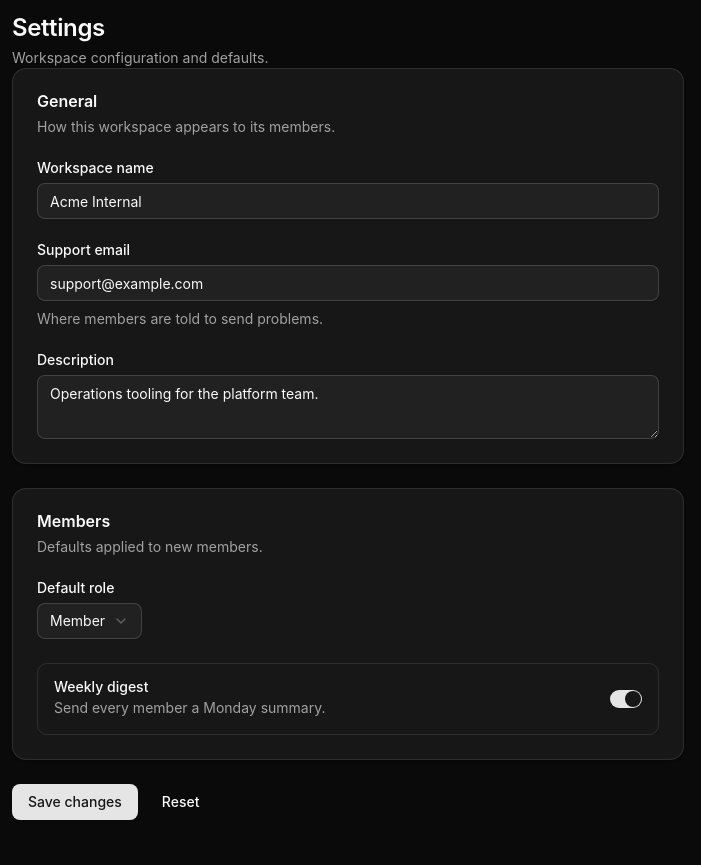
Test: SettingsPage › blocks submission and shows a message when a field is invalid
Replace the text in the field labelled "Support email" with "not-an-email": (348, 283) [37,265,659,301]
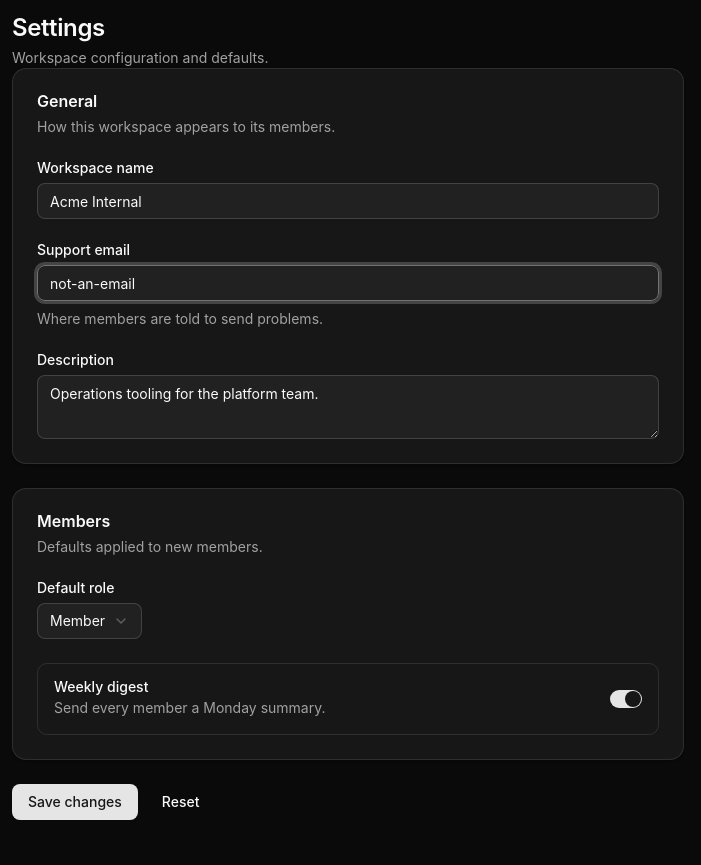
Click the button "Save changes": (75, 802) [12,784,138,820]
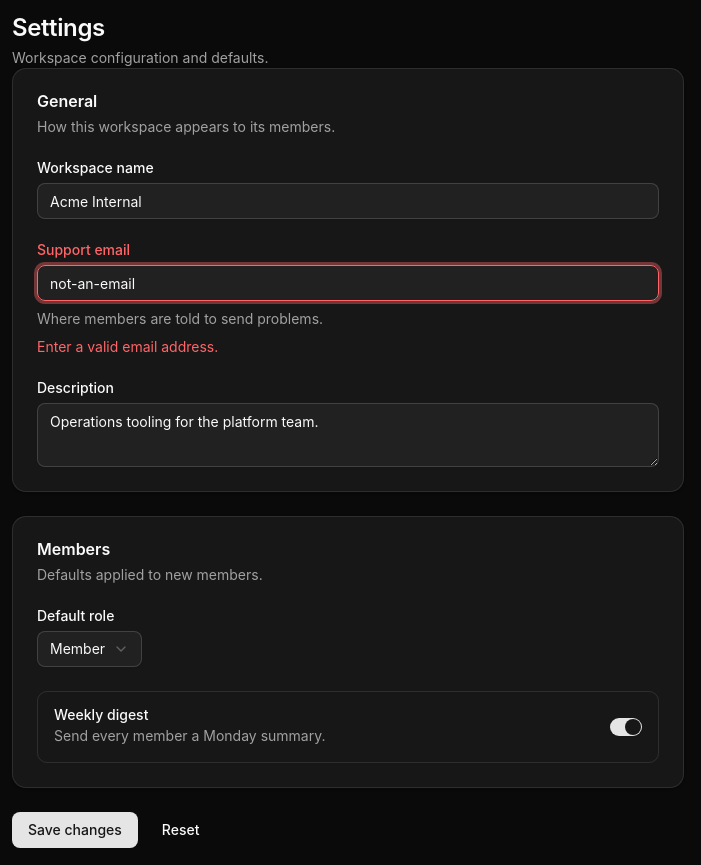
Expected: the text "Enter a valid email address." is shown, [37,338,218,355]
